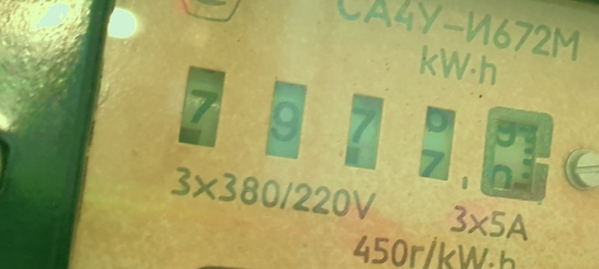0: (486, 158, 512, 189)
7: (180, 81, 218, 129), (414, 138, 448, 182), (345, 102, 377, 146)
9: (265, 94, 301, 145), (489, 114, 522, 149)
screen: (159, 50, 571, 217)
